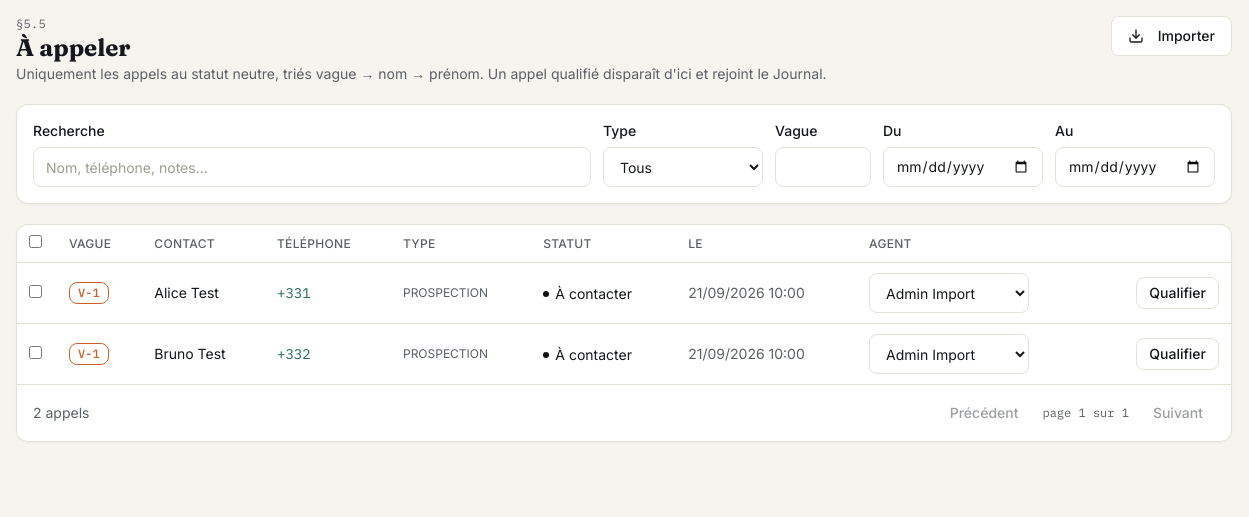
it: /calls — attribution d'un appel par l'admin › sélecteur par ligne : propriétaire actuel affiché (admin importateur), choisir un agent réattribue cet appel
The width and height of the screenshot is (1249, 517).
Step 1. Select "Ben Calliste" in the dropdown named "Agent de l'appel +331" → (949,293), box [869, 273, 1029, 313]
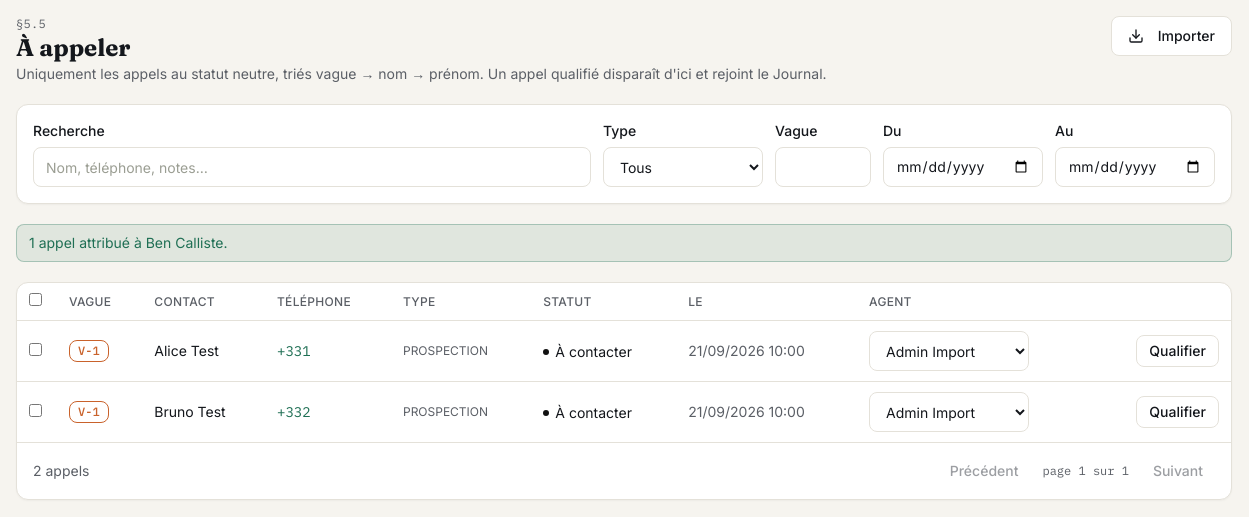
Result: the text "1 appel attribué à Ben Calliste." is shown at [16, 224, 1232, 262]
